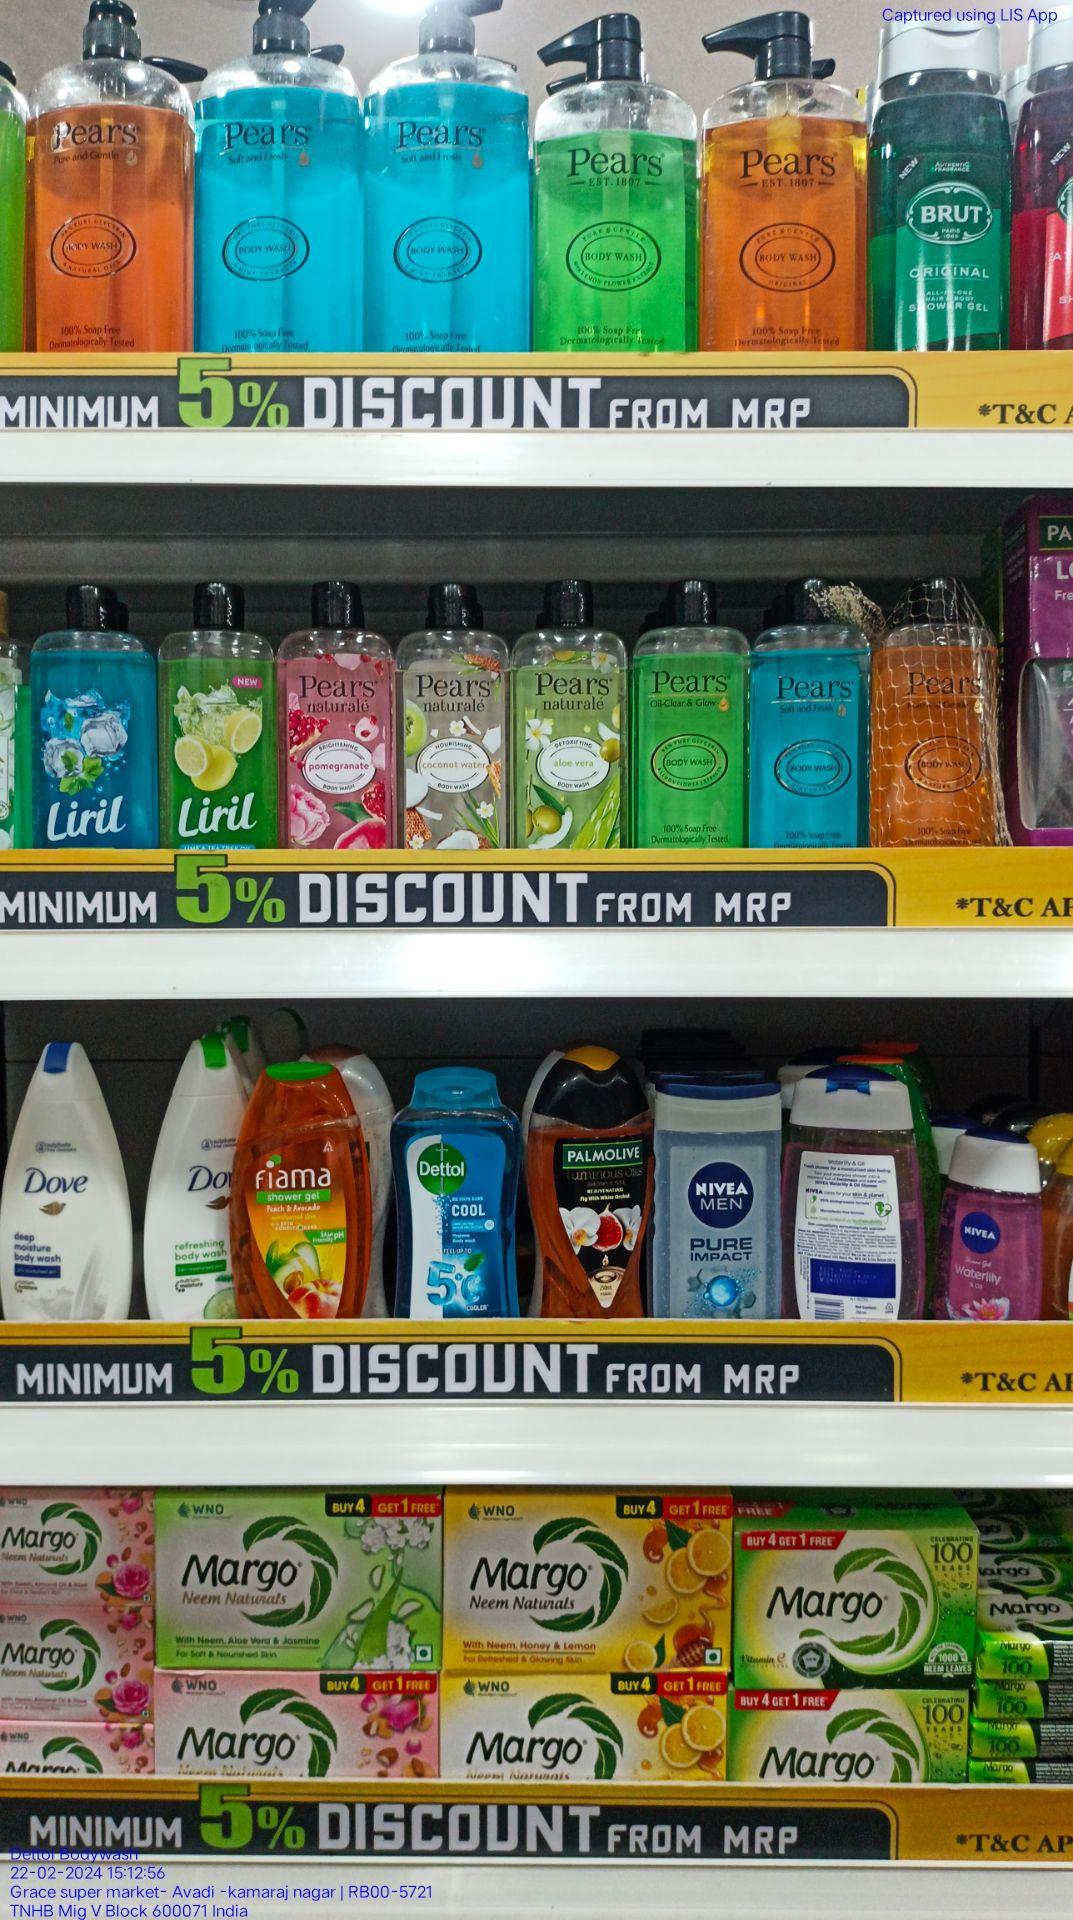Dettol_Bodywash_Cool: (393, 1058, 519, 1316)
Dove_Deep_Moisture_Body_Wash_250ML: (0, 1043, 133, 1320)
Dove_Refreshing_Body_Wash_250ML: (145, 1031, 232, 1321)
Fiama_Shower_Gel_Peach_and_Avocado_250ML: (244, 1064, 368, 1315)
Liril_Cooling_Mint_Body_Wash_250ML: (36, 587, 157, 848)
Liril_Lime_and_Tea_Tree_Oil_Body_Wash_250ML: (165, 582, 279, 853)
Nivea_Shower_Gel_Waterlily_and_Oil_250ML: (942, 1131, 1043, 1323)
Palmolive_Luminous_Oils_With_White_Orchid_Shower_Gel_250ML: (531, 1051, 649, 1319)
Pears_Naturale_Aloe_Vera_Body_Wash_250ML: (509, 575, 627, 855)
Pears_Pure_Glycerin_and_Lemon_Flower_Extracts_Body_Wash_250ML: (635, 574, 746, 845)
Pears_Pure_Glycerin_and_Mint_Extracts_Body_Wash_250ML: (755, 570, 870, 847)
